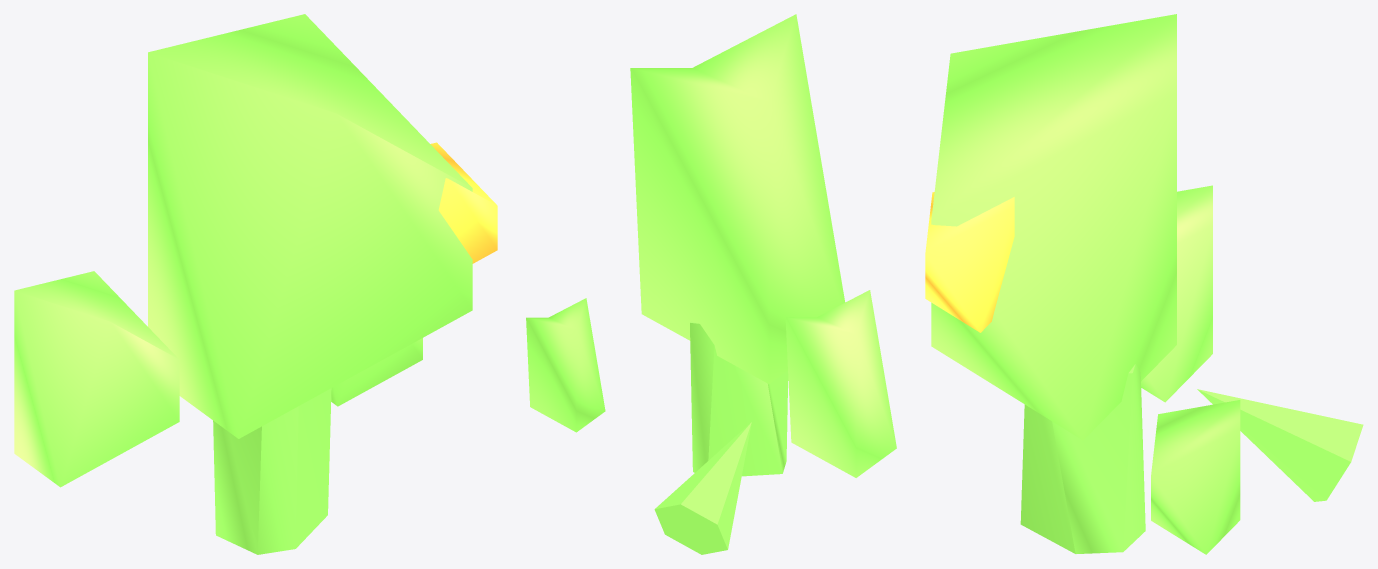
The model's file is spore_pod_lod2.glb.
3 views of the same model, side by side, from view 1: azimuth 30°, elevation 25°; view 2: azimuth 150°, elevation 25°; view 3: azimuth 270°, elevation 25° (orthographic). The views are drawn at different scales.
Parts seen in each view (by area): view 1: prop.spore_pod; view 2: prop.spore_pod; view 3: prop.spore_pod.
Boxes of the visible parts, box(x1,y1,x2,y2) form: prop.spore_pod: box(14, 14, 497, 554); prop.spore_pod: box(526, 14, 896, 554); prop.spore_pod: box(925, 14, 1363, 554).
Size of the model in its own units: 0.9409 by 1.11 by 0.9126.
